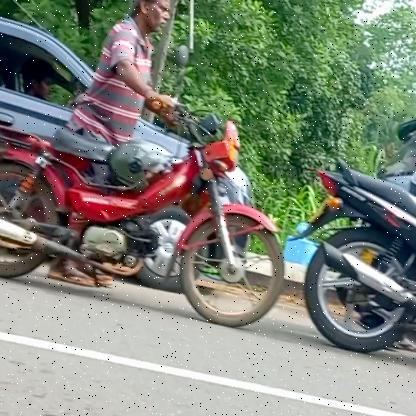motorcycle: (0, 35, 299, 330), (292, 114, 416, 412)
